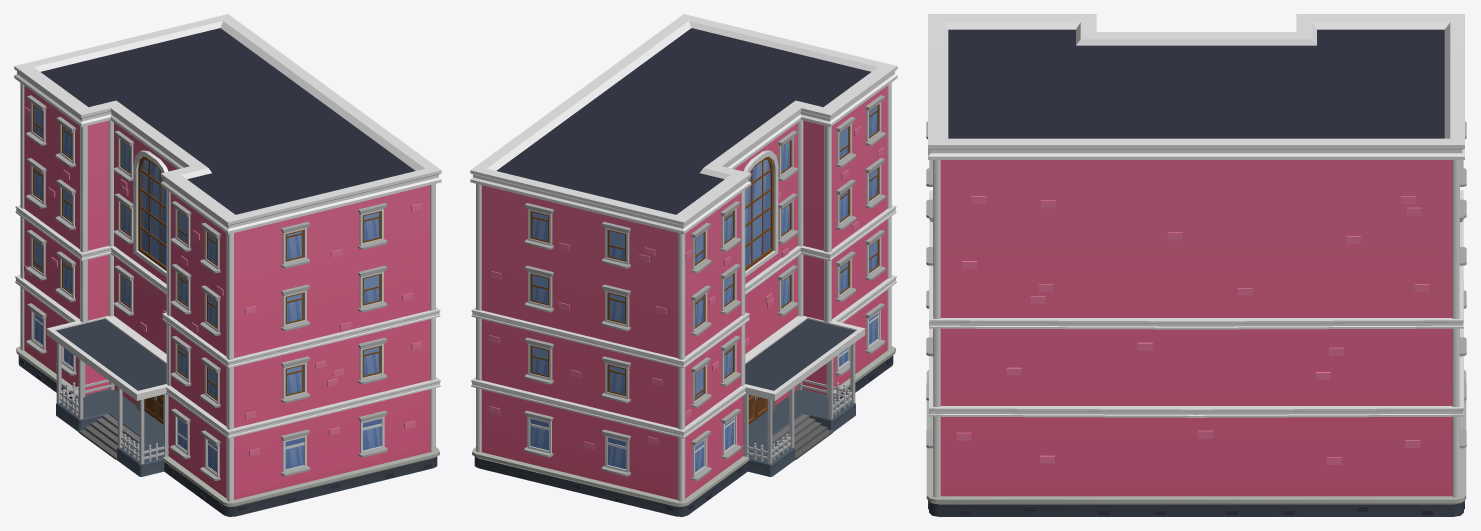
Rendered from Building_5_3_L.fbx.
3 renders of one model, left to right at view 1: azimuth 30°, elevation 25°; view 2: azimuth 150°, elevation 25°; view 3: azimuth 270°, elevation 25°, orthographic. The views are drawn at different scales.
Parts seen in each view (by area): view 1: Building_5_3_L; view 2: Building_5_3_L; view 3: Building_5_3_L.
Part boxes in pixels (box(x1,y1,x2,y2)): Building_5_3_L: box(14, 14, 441, 516); Building_5_3_L: box(470, 14, 897, 516); Building_5_3_L: box(926, 14, 1466, 516).
Size of the model in its own units: 1251 by 1450 by 1908.
